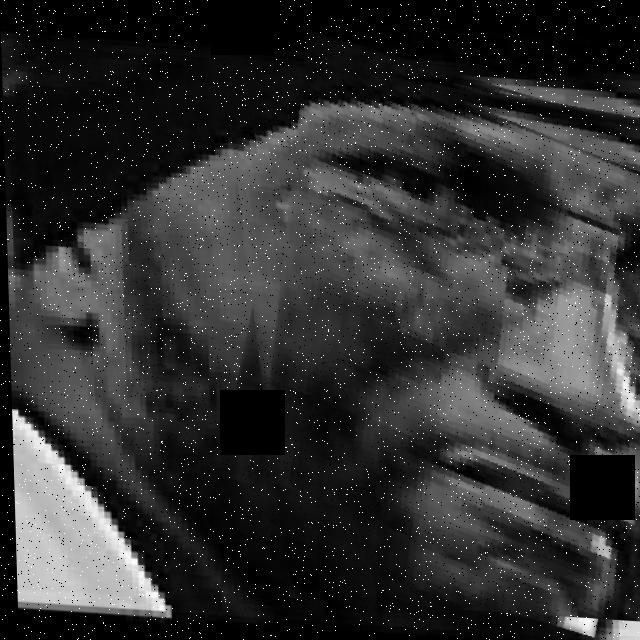sad: (220, 40, 640, 614)
